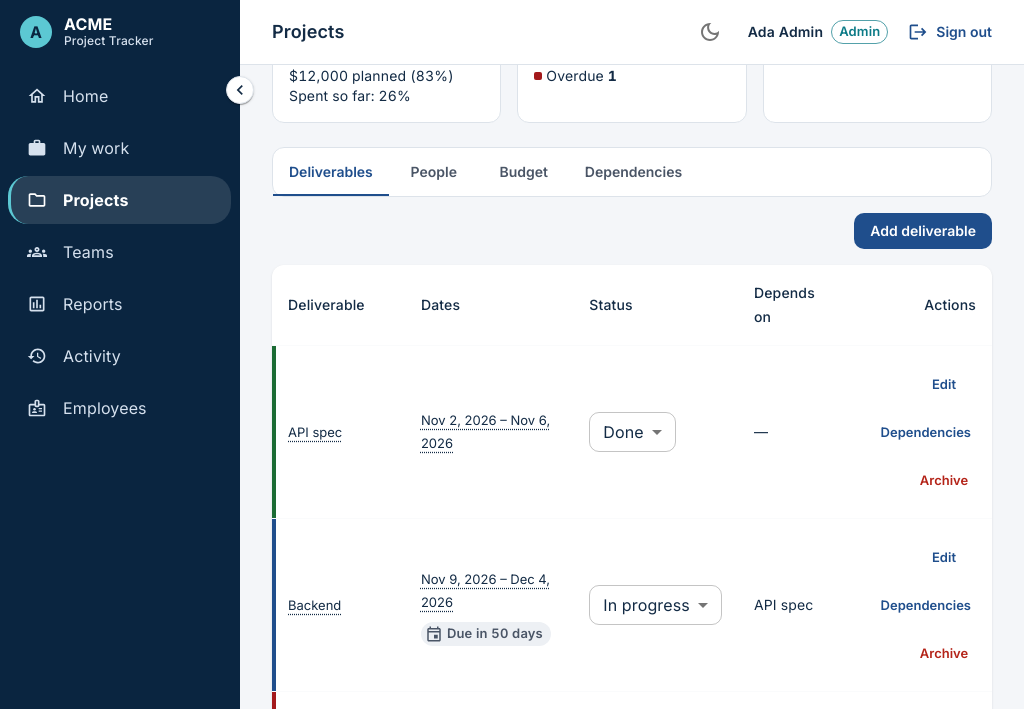
Scenario: Deliverable edit › a 409 archived refusal shows its own sentence
This screenshot has width=1024, height=709.
(page scrolled)
Click the button with aria-label "Edit API spec": (944, 384) [912,362,976,406]
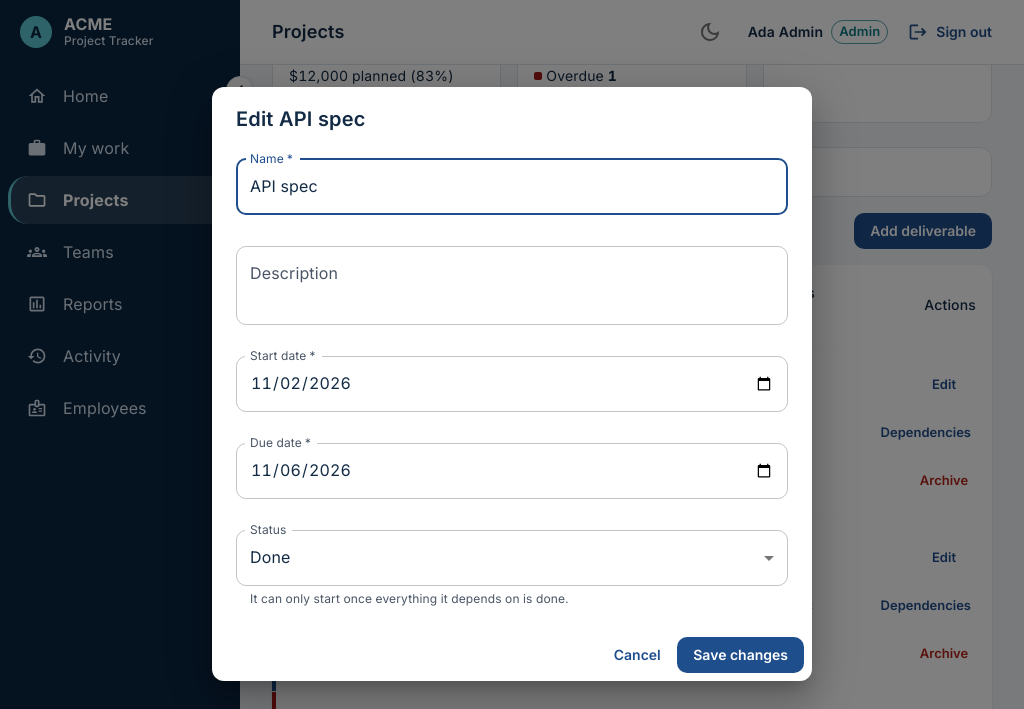
In the text box labelled "Description": (512, 285) [250,262,774,308], type "v2"
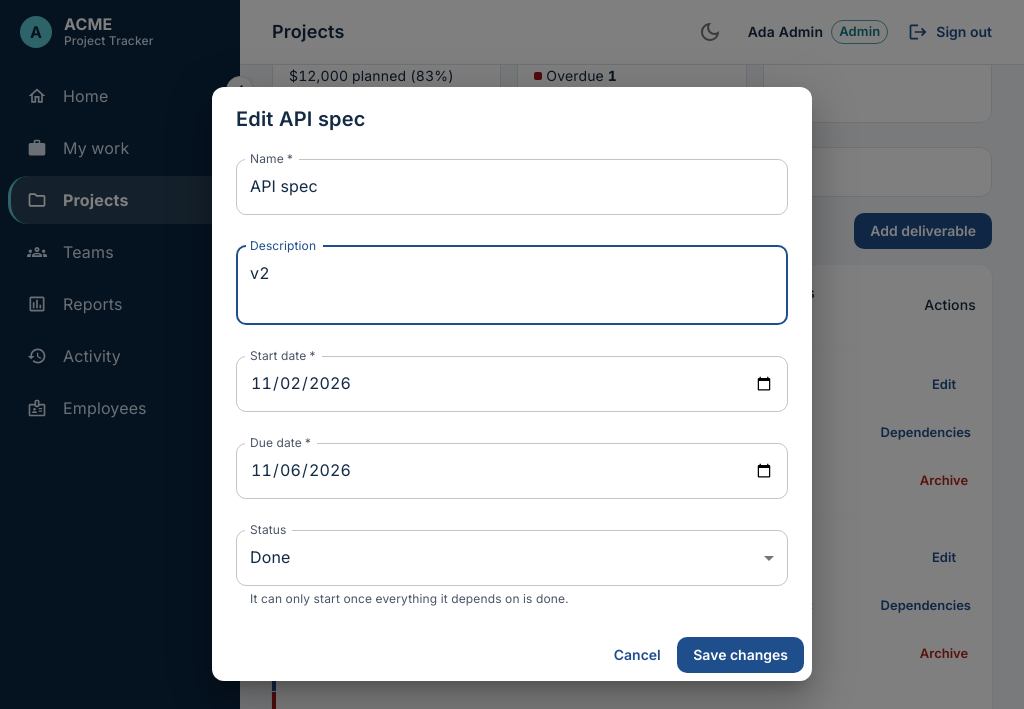
Click the button "Save changes": (741, 655) [677,636,804,673]
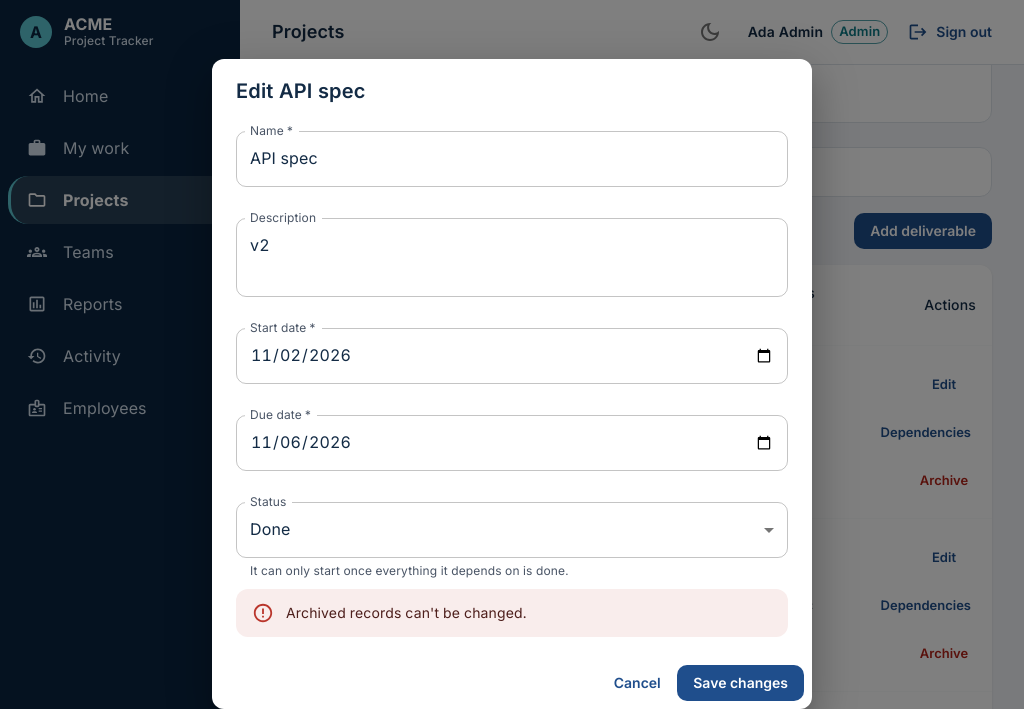
Result: the text "Archived records can't be changed." is shown at [286,604,527,620]
